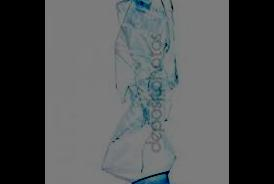Plastic: (90, 0, 199, 183)
